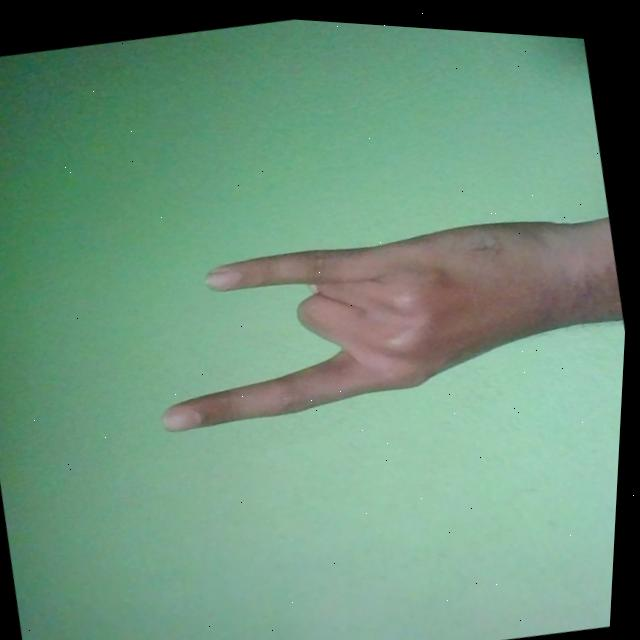Rock On: (133, 177, 622, 454)
